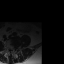CCS_normal: (12, 46, 14, 52)
LFS_severe_stenosis: (15, 46, 17, 50)
LLS_stenosis: (14, 47, 15, 51)
RFS_stenosis: (9, 46, 11, 50)
RLS_normal: (11, 46, 12, 51)
